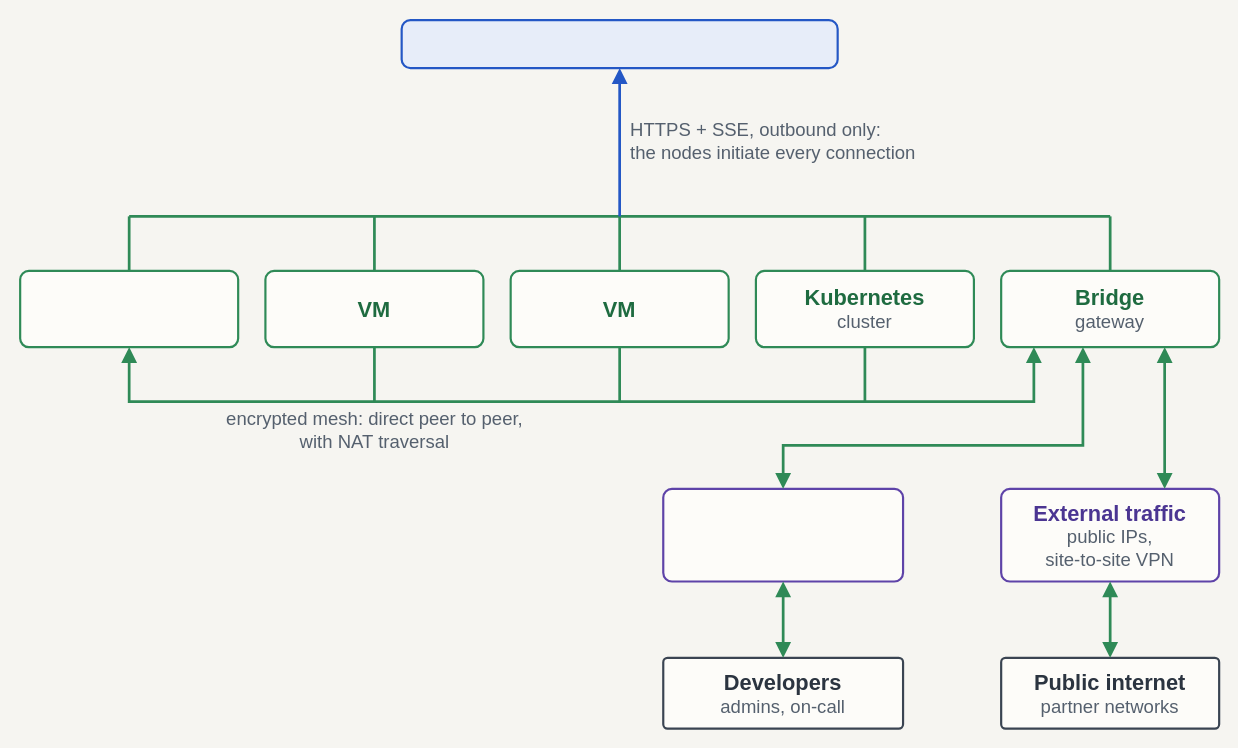
Some shapes in this 1238 by 748 pixel diagram are drawn without their labels. Here are the shapes that lost their labels. From the top down, the centre of each, then its label:
At (619,44): "Plexsphere control plane".
At (129,308): "Bare metal".
At (783,534): "User access Tailscale, Netbird, WireGuard".
